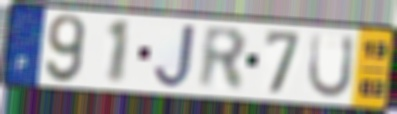1: (104, 18, 133, 86)
7: (261, 28, 306, 97)
9: (45, 12, 88, 85)
J: (150, 22, 198, 90)
R: (197, 24, 250, 94)
U: (305, 30, 357, 101)
